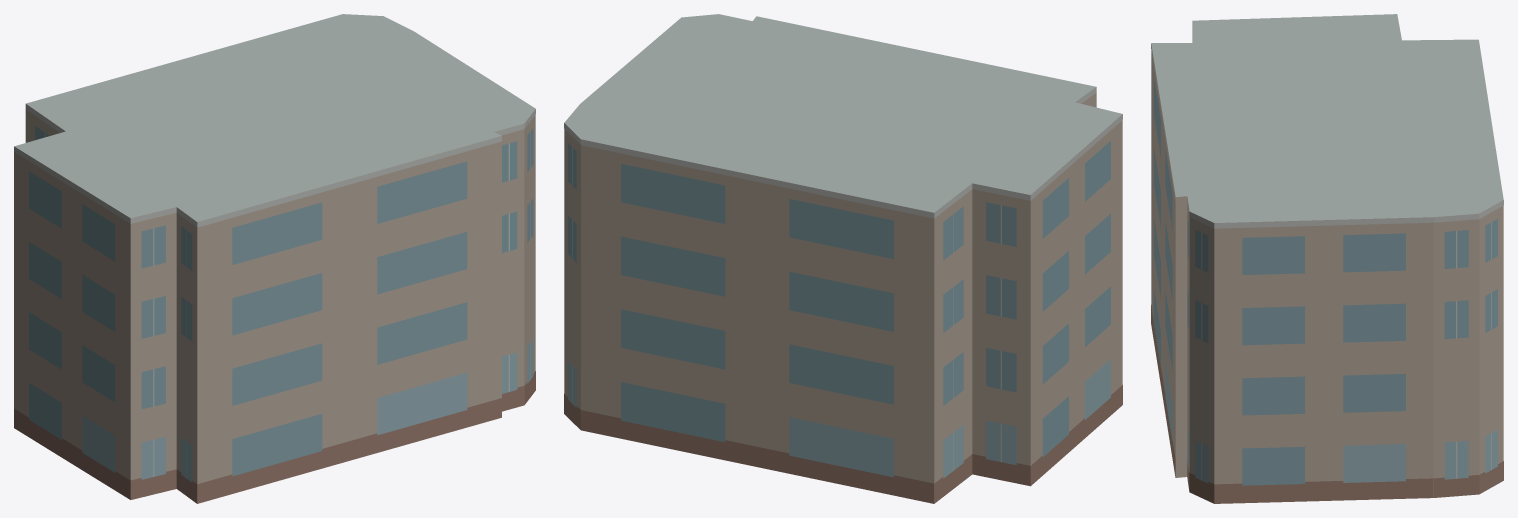
Rendered from survey-upis-32472980.glb.
3 renders of one model, left to right at view 1: azimuth 30°, elevation 25°; view 2: azimuth 150°, elevation 25°; view 3: azimuth 270°, elevation 25°, orthographic. The views are drawn at different scales.
Parts seen in each view (by area): view 1: survey-upis-32472980.tmp; view 2: survey-upis-32472980.tmp; view 3: survey-upis-32472980.tmp.
Boxes of the visible parts, x1,y1,x2,y2 form: survey-upis-32472980.tmp: [14, 14, 535, 503]; survey-upis-32472980.tmp: [564, 14, 1122, 503]; survey-upis-32472980.tmp: [1151, 14, 1503, 503].
Size of the model in its own units: 19.73 by 12.35 by 14.06.
